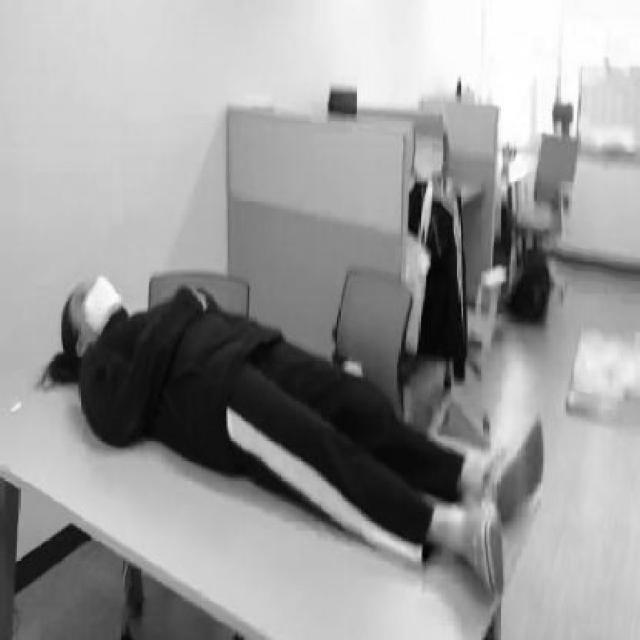person: (50, 270, 547, 595)
